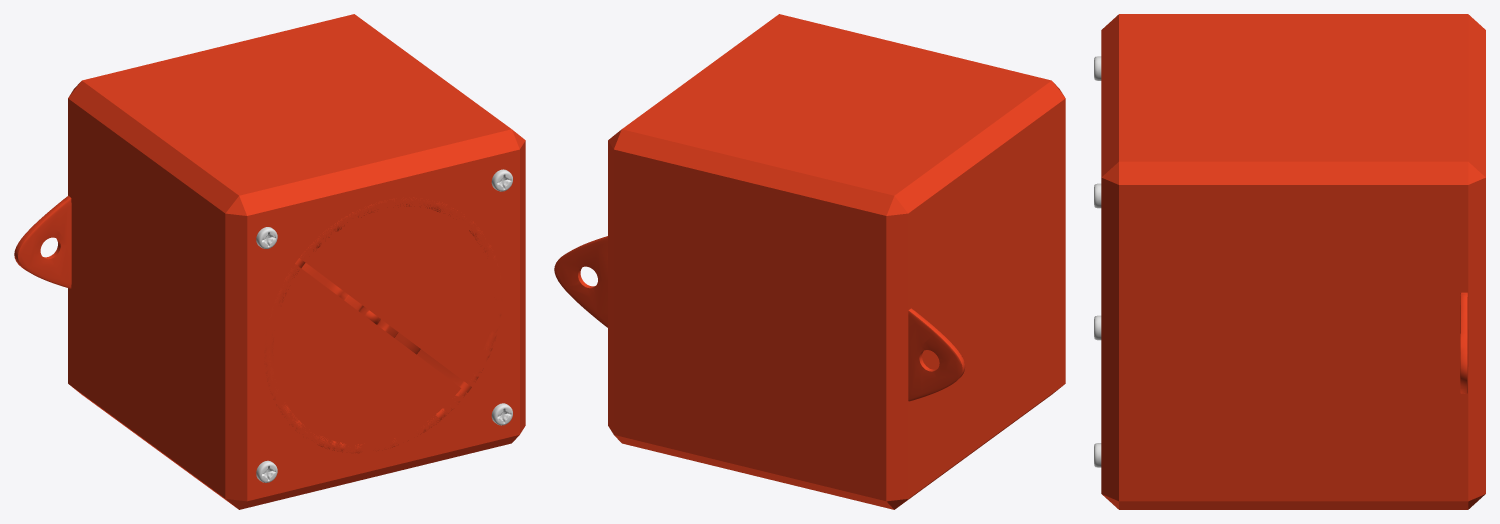
The model's file is Yodalarm.fbx.
3 views of the same model, side by side, from view 1: azimuth 30°, elevation 25°; view 2: azimuth 150°, elevation 25°; view 3: azimuth 270°, elevation 25° (orthographic). The views are drawn at different scales.
Parts seen in each view (by area): view 1: Yodalarm; view 2: Yodalarm; view 3: Yodalarm.
Boxes of the visible parts, x1,y1,x2,y2 form: Yodalarm: [14, 14, 525, 509]; Yodalarm: [554, 14, 1065, 509]; Yodalarm: [1094, 14, 1485, 509].
Size of the model in its own units: 272 by 200 by 204.
